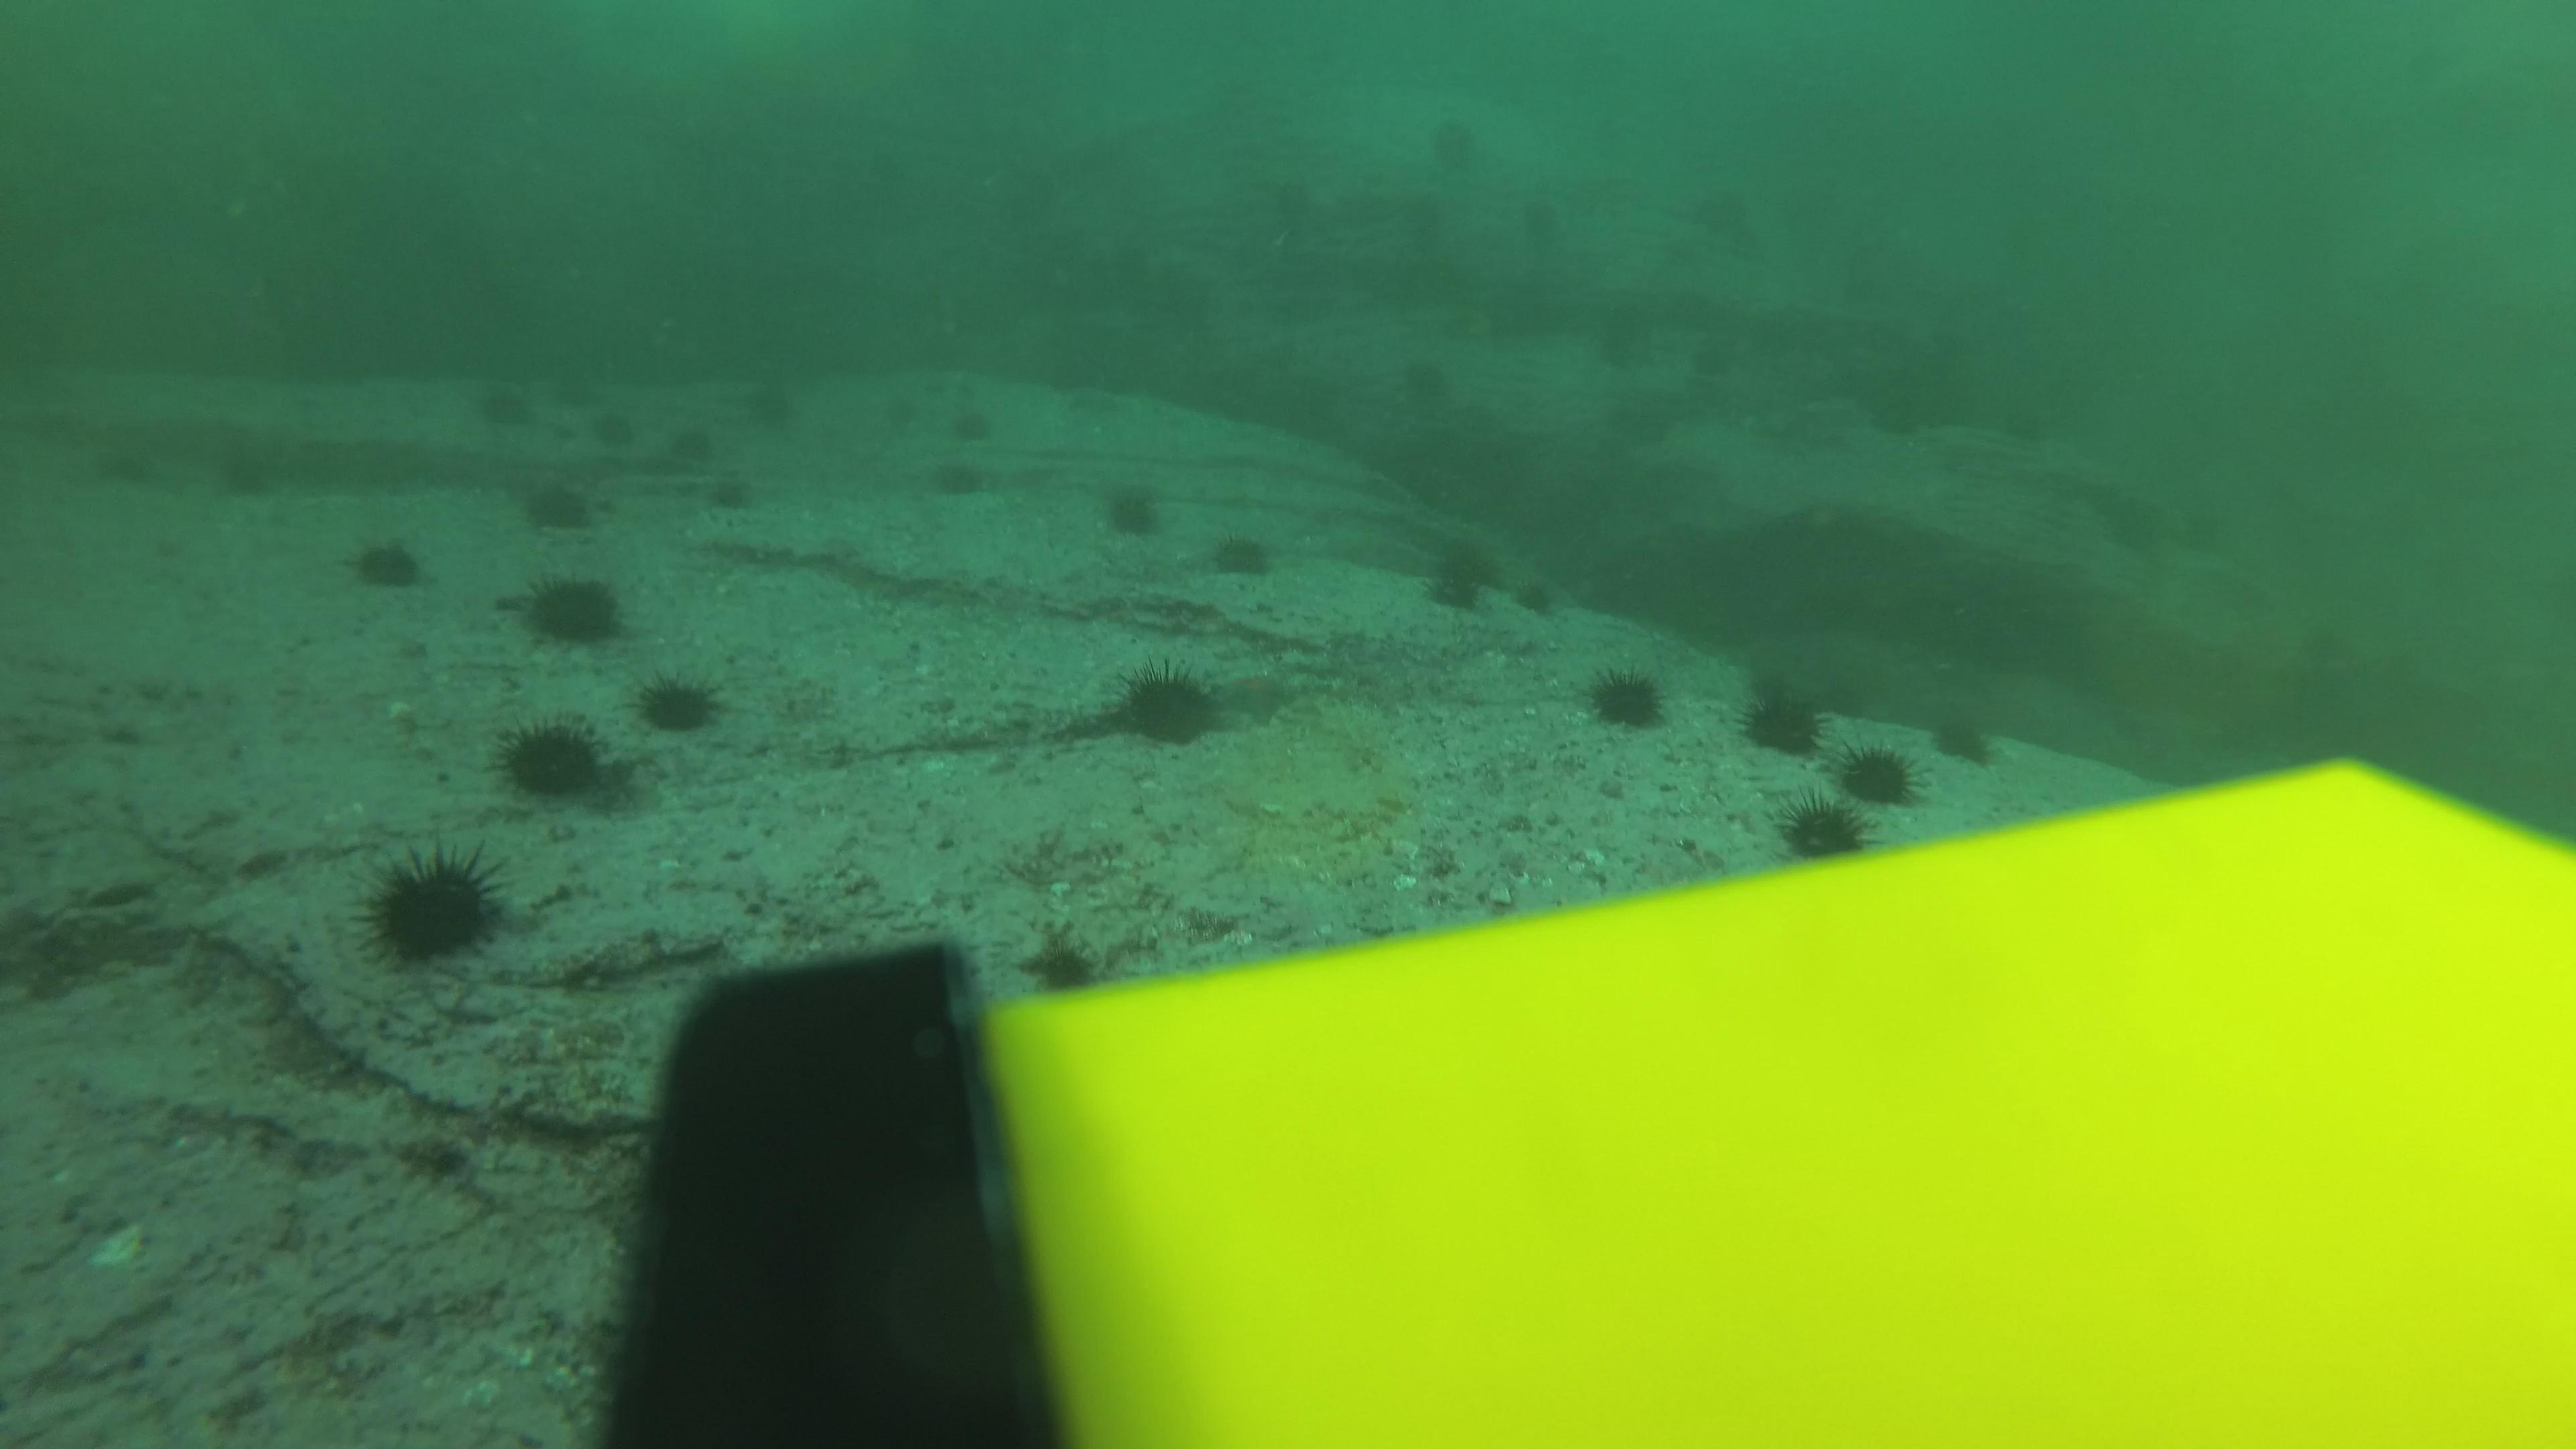echinus: (356, 840, 511, 971), (492, 713, 628, 812), (1100, 658, 1231, 754), (513, 566, 630, 653), (1824, 738, 1925, 821), (1736, 676, 1831, 761), (1775, 791, 1877, 867), (1580, 658, 1674, 738), (633, 667, 725, 740), (343, 527, 432, 596), (1092, 474, 1171, 545), (518, 472, 602, 538), (1927, 704, 2006, 771), (1205, 522, 1283, 584), (1422, 568, 1483, 616), (1440, 538, 1500, 586), (674, 425, 725, 469), (556, 370, 607, 414), (103, 446, 154, 490), (932, 455, 984, 499), (943, 405, 994, 449), (706, 469, 755, 513), (878, 386, 927, 430), (1040, 947, 1092, 989), (594, 412, 646, 455), (479, 379, 531, 421), (218, 458, 269, 501), (741, 377, 793, 419), (1401, 357, 1447, 396), (1270, 191, 1316, 230), (1506, 575, 1552, 612), (1401, 202, 1447, 239), (1431, 126, 1477, 163), (1686, 343, 1732, 380), (1516, 196, 1560, 234), (1594, 327, 1638, 364)
starfish: (1205, 667, 1302, 731)
